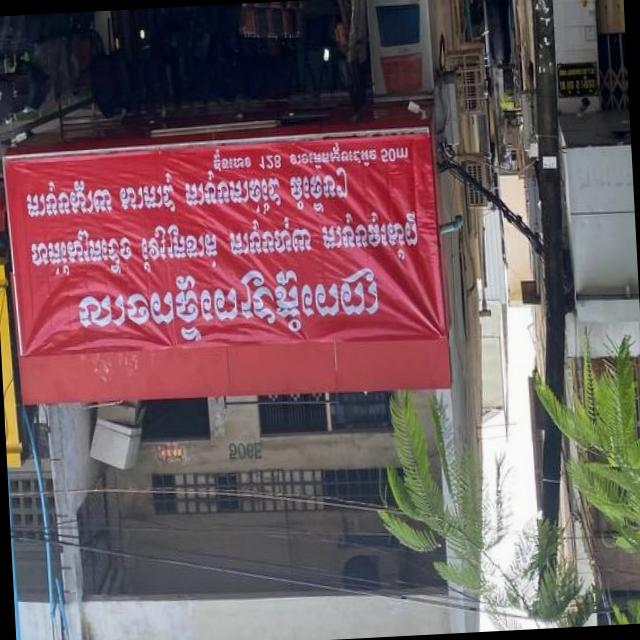3: (27, 211, 421, 278), (19, 167, 352, 229)
42: (209, 141, 404, 177)
Yolov11kh: (74, 263, 383, 344)
